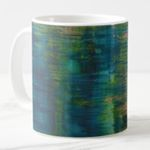cups: (7, 12, 132, 139)
